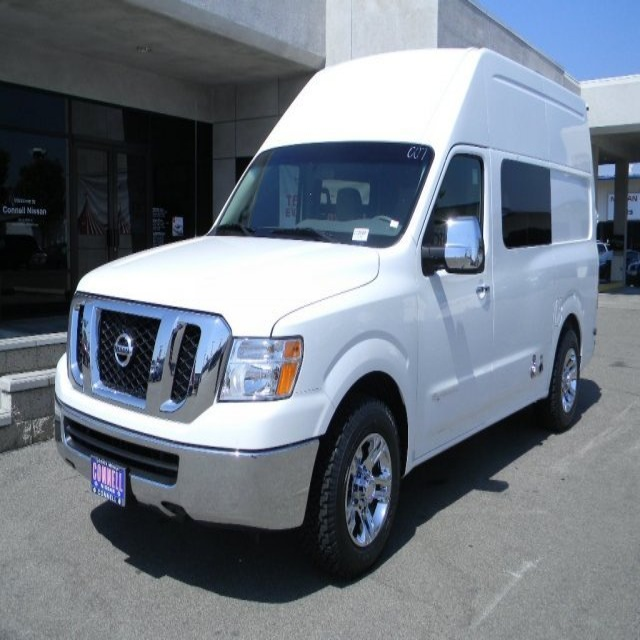Van: (55, 47, 599, 580)
